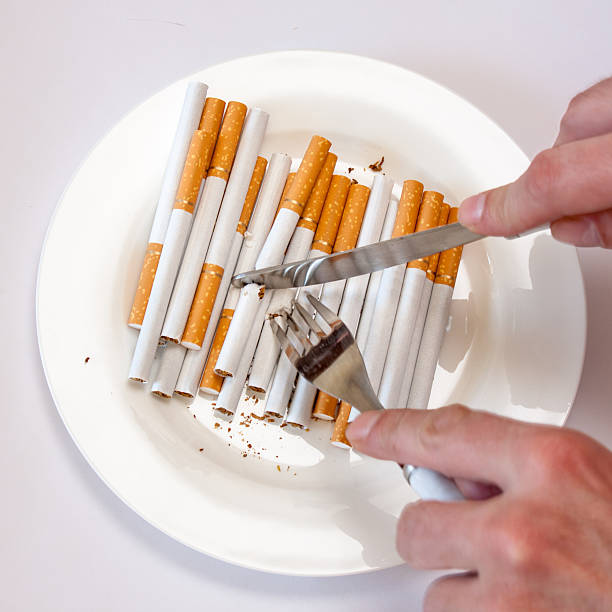cigarette: (213, 131, 335, 380), (173, 154, 269, 398), (199, 150, 293, 396), (245, 150, 340, 393), (178, 105, 271, 351), (159, 99, 249, 345), (263, 171, 352, 419), (123, 76, 210, 329), (126, 127, 210, 385), (286, 181, 372, 432), (311, 173, 394, 423), (328, 197, 397, 450), (375, 187, 447, 408), (360, 177, 425, 394), (395, 201, 453, 412), (407, 245, 468, 406), (213, 289, 273, 417), (152, 340, 187, 401), (197, 93, 226, 134)
knife: (231, 223, 491, 294)
